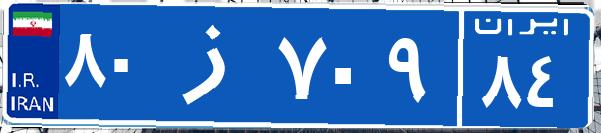0: (330, 28, 385, 110), (110, 28, 158, 105)
4: (525, 38, 570, 115)
7: (273, 28, 330, 110)
8: (57, 26, 110, 107), (475, 38, 525, 113)
9: (385, 28, 445, 110)
ز: (158, 15, 273, 115)
